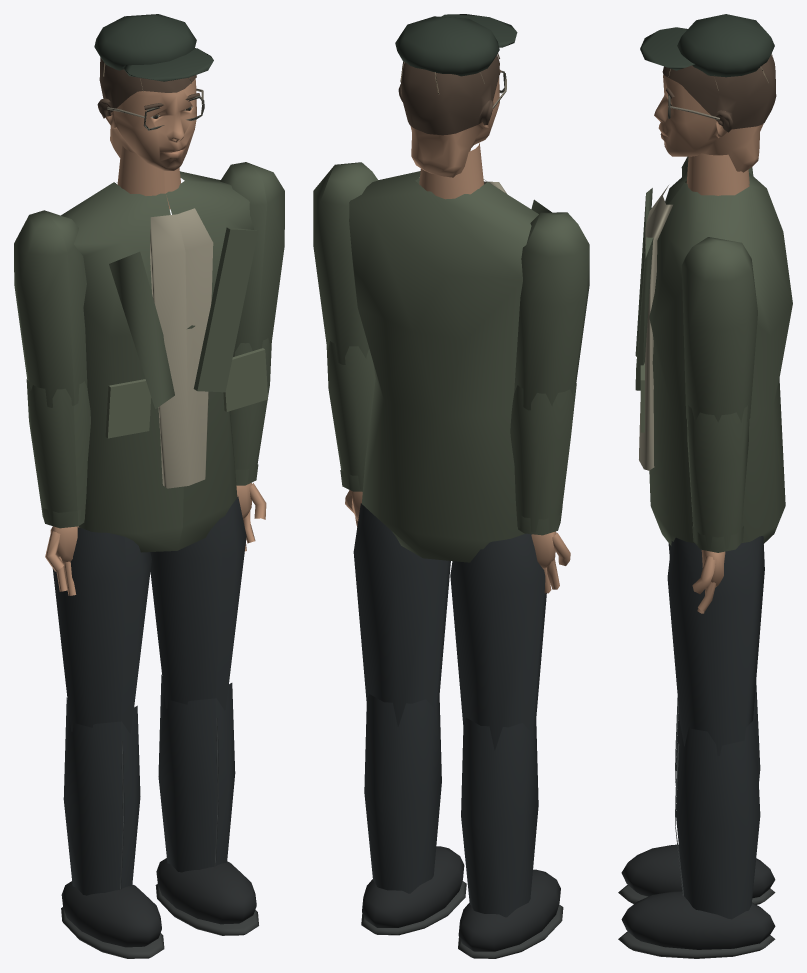
Rendered from mr-robot-lod.glb.
3 renders of one model, left to right at view 1: azimuth 30°, elevation 25°; view 2: azimuth 150°, elevation 25°; view 3: azimuth 270°, elevation 25°, orthographic. The views are drawn at different scales.
Parts seen in each view (by area): view 1: Torso, TrouserThigh (×2), TrouserCalf (×2), TailoredSleeve (×2), ShirtFront, Shoe (×2), Head, LeftForearm, AnatomicalFace, RightForearm, Sole (×2), Neck (+2 smaller); view 2: Torso, TrouserThigh (×2), TrouserCalf (×2), TailoredSleeve (×2), Head, Shoe (×2), LeftForearm, RightForearm, AnatomicalFace, Sole (×2), Neck, LeftHand; view 3: Torso, TrouserThigh, TrouserCalf (×2), TailoredSleeve, Head, Shoe (×2), RightForearm, AnatomicalFace, ShirtFront, Neck, Sole (×2), RightHand.
Boxes of the visible parts, <box> form: Torso: <box>61,171,267,552</box>; TrouserThigh (×2): <box>52,496,246,733</box>; TrouserCalf (×2): <box>63,674,235,895</box>; TailoredSleeve (×2): <box>14,162,284,407</box>; ShirtFront: <box>150,208,213,488</box>; Shoe (×2): <box>61,858,256,947</box>; Head: <box>94,14,213,130</box>; LeftForearm: <box>26,379,90,528</box>; AnatomicalFace: <box>105,79,196,170</box>; RightForearm: <box>230,338,271,485</box>; Sole (×2): <box>61,884,258,958</box>; Neck: <box>117,145,180,209</box>; Torso: <box>349,171,551,562</box>; TrouserThigh (×2): <box>353,503,546,750</box>; TrouserCalf (×2): <box>364,694,538,917</box>; TailoredSleeve (×2): <box>313,162,589,410</box>; Head: <box>395,14,517,135</box>; Shoe (×2): <box>362,846,560,951</box>; LeftForearm: <box>510,383,576,535</box>; RightForearm: <box>326,341,375,491</box>; AnatomicalFace: <box>410,77,499,177</box>; Sole (×2): <box>361,881,563,958</box>; Neck: <box>419,142,483,199</box>; LeftHand: <box>531,531,570,593</box>; Torso: <box>635,173,792,545</box>; TrouserThigh: <box>667,536,764,755</box>; TrouserCalf (×2): <box>676,681,760,919</box>; TailoredSleeve: <box>681,237,757,422</box>; Head: <box>640,14,776,132</box>; Shoe (×2): <box>621,844,775,949</box>; RightForearm: <box>687,404,749,552</box>; AnatomicalFace: <box>654,74,763,172</box>; ShirtFront: <box>639,185,672,470</box>; Neck: <box>686,153,749,195</box>; Sole (×2): <box>618,884,775,958</box>; RightHand: <box>692,550,725,613</box>.
Size of the model in its own units: 0.5433 by 1.77 by 0.311.
